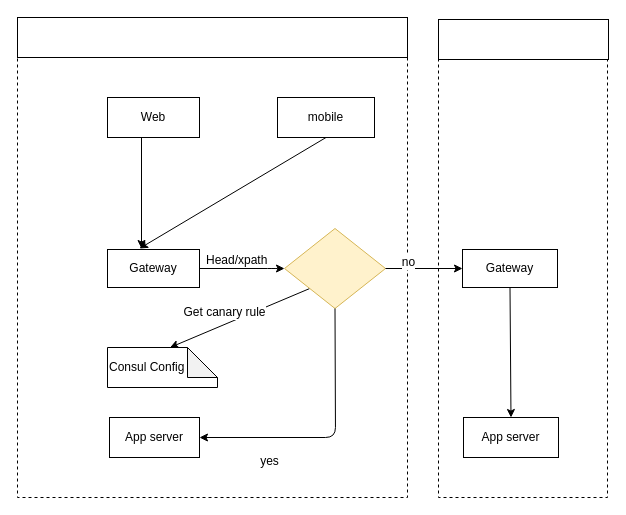
Image size: 626x515. Some labels were removed from this diagram. The box of each missing label's shape, as (x1, y1, x2, y2) in pixels:
A(Online): (16, 16, 408, 58)
B(Canary): (438, 18, 608, 60)
predicates (canary rule): (284, 228, 386, 308)
